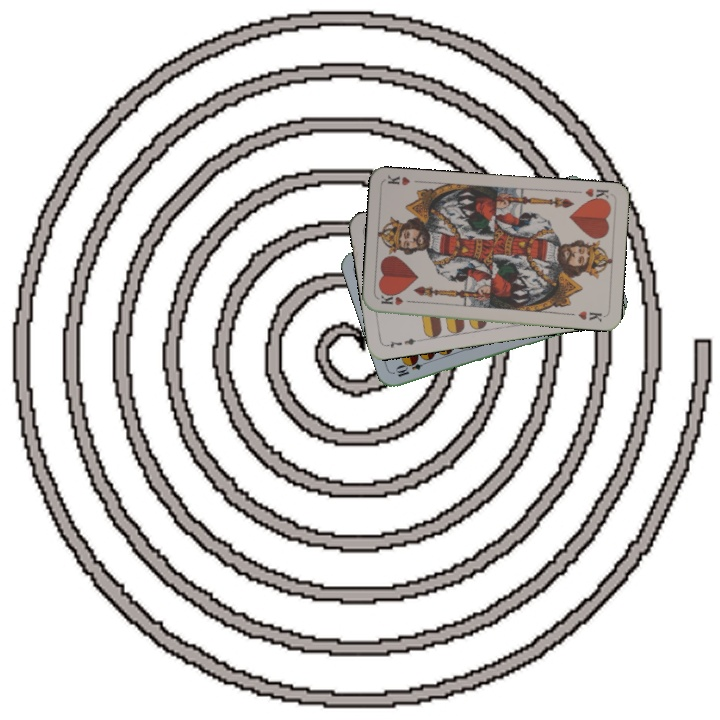E10: (392, 356, 432, 380)
E7: (382, 334, 422, 351)
HK: (377, 291, 417, 308), (582, 184, 611, 205)
